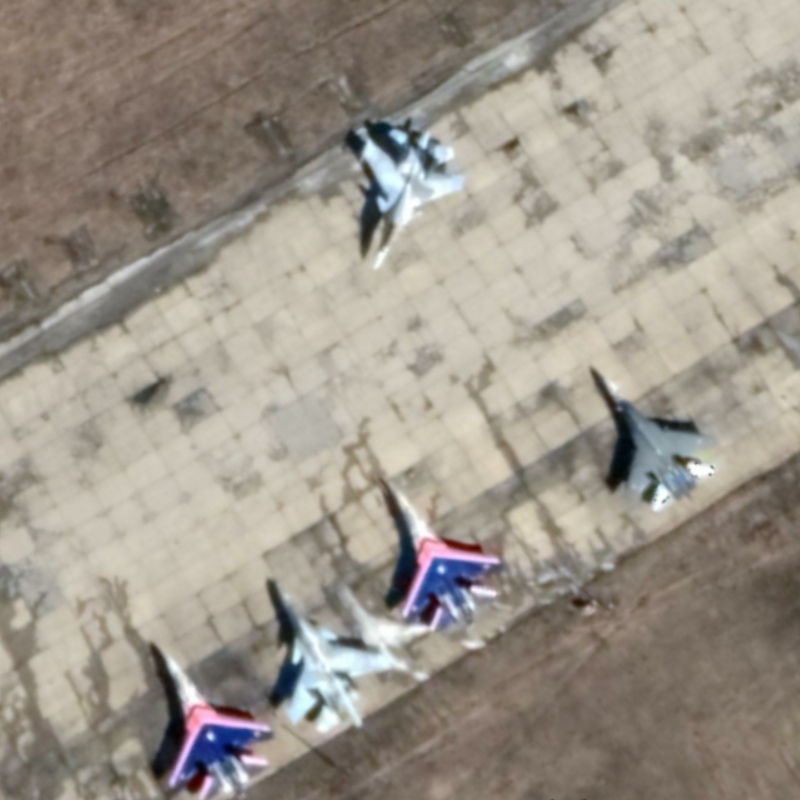A1: (579, 353, 723, 520), (373, 466, 509, 634), (140, 631, 276, 799)
A19: (264, 564, 401, 739), (338, 116, 471, 277)
